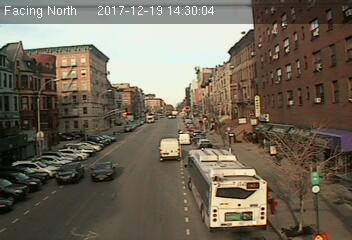bus: (187, 149, 266, 231)
car: (54, 163, 85, 185), (90, 162, 117, 182)
truck: (158, 138, 182, 163), (176, 130, 191, 146)
